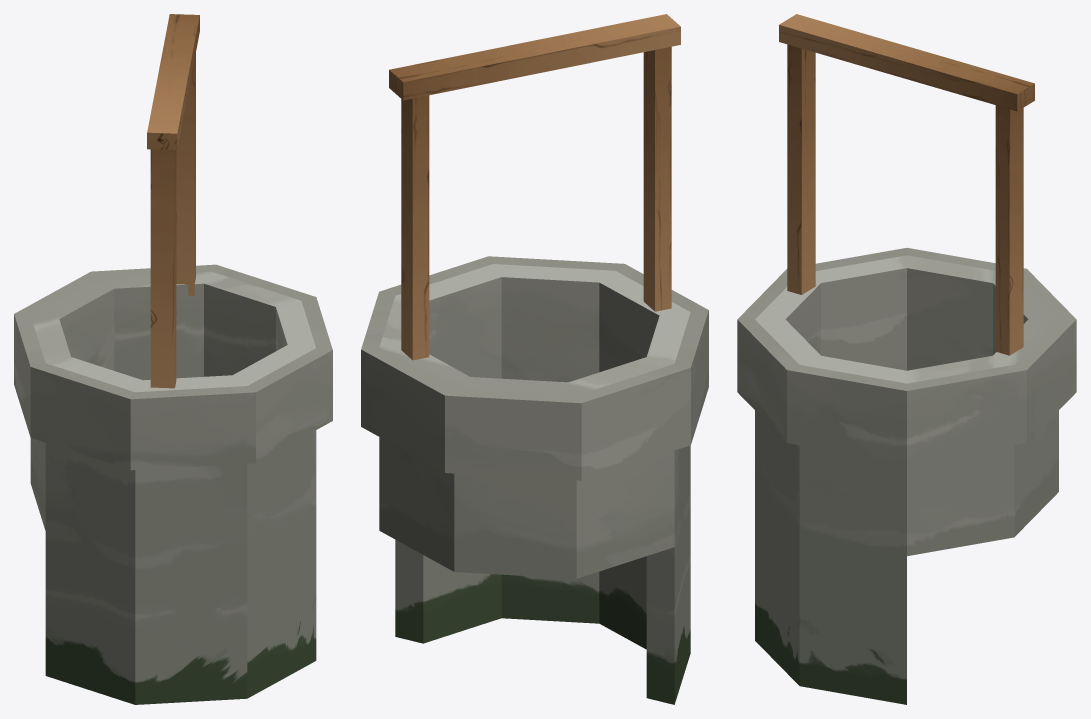
The model's file is Well.fbx.
3 renders of one model, left to right at view 1: azimuth 30°, elevation 25°; view 2: azimuth 150°, elevation 25°; view 3: azimuth 270°, elevation 25°, orthographic. The views are drawn at different scales.
Visible parts, largest first — view 1: Well; view 2: Well; view 3: Well.
Boxes of the visible parts, x1,y1,x2,y2 form: Well: (14, 14, 332, 704); Well: (361, 14, 708, 704); Well: (737, 14, 1076, 704).
Size of the model in its own units: 3.32 by 6.34 by 3.32.
